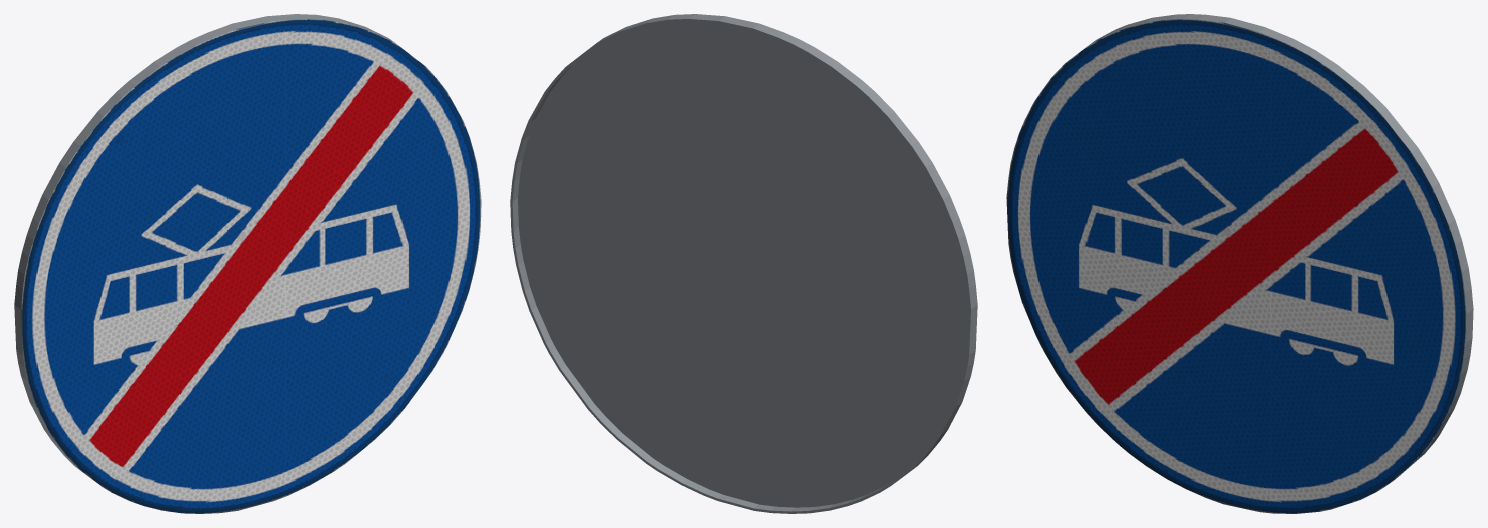
3 renders of one model, left to right at view 1: azimuth 30°, elevation 25°; view 2: azimuth 150°, elevation 25°; view 3: azimuth 330°, elevation 25°, orthographic.
Visible parts, largest first — view 1: cat_0bd5c3fc2bc0dc0d; view 2: cat_0bd5c3fc2bc0dc0d; view 3: cat_0bd5c3fc2bc0dc0d.
Part boxes in pixels (x1,y1,x2,y2): cat_0bd5c3fc2bc0dc0d: (14,14,481,513); cat_0bd5c3fc2bc0dc0d: (510,14,977,513); cat_0bd5c3fc2bc0dc0d: (1006,14,1473,513).
Size of the model in its own units: 0.6 by 0.015 by 0.6.
Materials: 2 (1 with a texture image).
